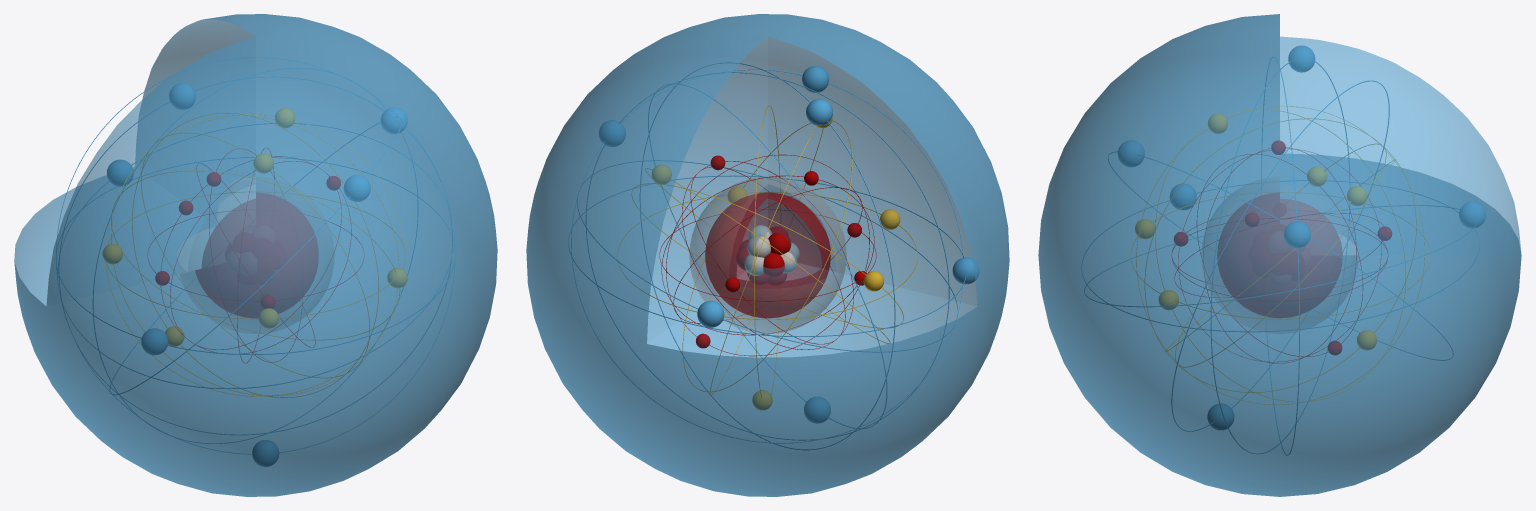
The model's file is Hydrogen.glb.
3 views of the same model, side by side, from view 1: azimuth 30°, elevation 25°; view 2: azimuth 150°, elevation 25°; view 3: azimuth 270°, elevation 25° (orthographic).
Parts seen in each view (by area): view 1: atom, jadro, elecrony_3ur_Material #55_0, obolochka, electrony_2ur_Material #54_0, electrony_1ur_Material #25_0; view 2: atom, obolochka, elecrony_3ur_Material #55_0, jadro, electrony_2ur_Material #54_0, electrony_1ur_Material #25_0, protony_Material #25_0, neytrony_Material #51_0; view 3: atom, jadro, elecrony_3ur_Material #55_0, electrony_2ur_Material #54_0, obolochka, electrony_1ur_Material #25_0.
Part boxes in pixels (<box>): atom: <box>14,14,497,496</box>; jadro: <box>195,193,318,317</box>; elecrony_3ur_Material #55_0: <box>56,57,455,466</box>; obolochka: <box>178,177,333,333</box>; electrony_2ur_Material #54_0: <box>103,108,407,397</box>; electrony_1ur_Material #25_0: <box>148,148,363,362</box>; atom: <box>526,14,1009,496</box>; obolochka: <box>689,177,846,333</box>; elecrony_3ur_Material #55_0: <box>568,62,979,449</box>; jadro: <box>705,192,830,318</box>; electrony_2ur_Material #54_0: <box>617,105,917,410</box>; electrony_1ur_Material #25_0: <box>659,154,876,356</box>; protony_Material #25_0: <box>737,226,791,284</box>; neytrony_Material #51_0: <box>744,225,799,275</box>; atom: <box>1038,14,1521,496</box>; jadro: <box>1217,193,1342,317</box>; elecrony_3ur_Material #55_0: <box>1081,45,1485,455</box>; electrony_2ur_Material #54_0: <box>1131,106,1430,404</box>; obolochka: <box>1202,177,1357,333</box>; electrony_1ur_Material #25_0: <box>1172,140,1391,363</box>.
Bounding box in the file's own units: 1.46 × 1.46 × 1.46.
8 materials, 8 textured.
